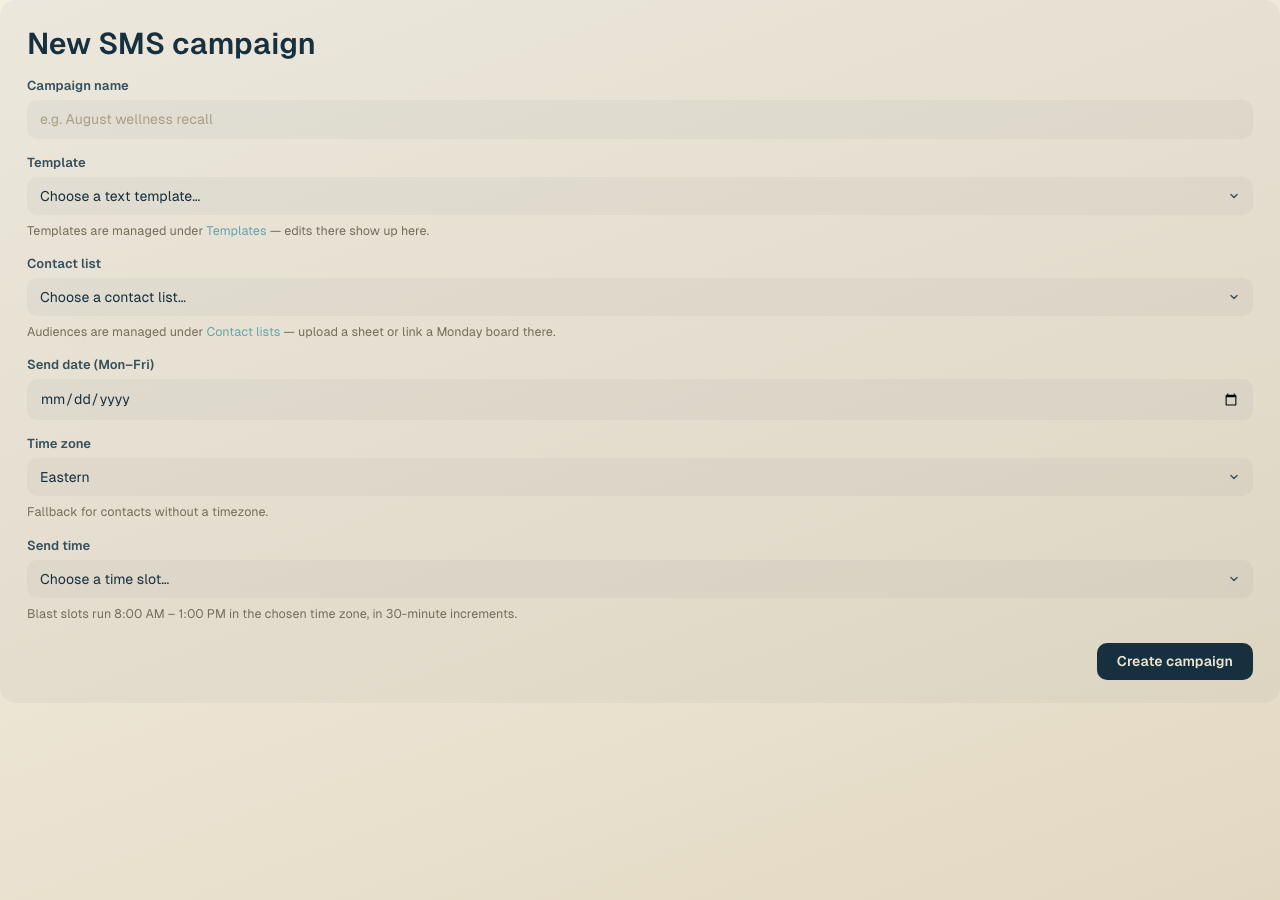
NewCampaignForm › flags a template whose body has unsupported merge fields
Select "Broken merge" in the dropdown labelled "Template" at (640, 196), box [27,176,1253,214]
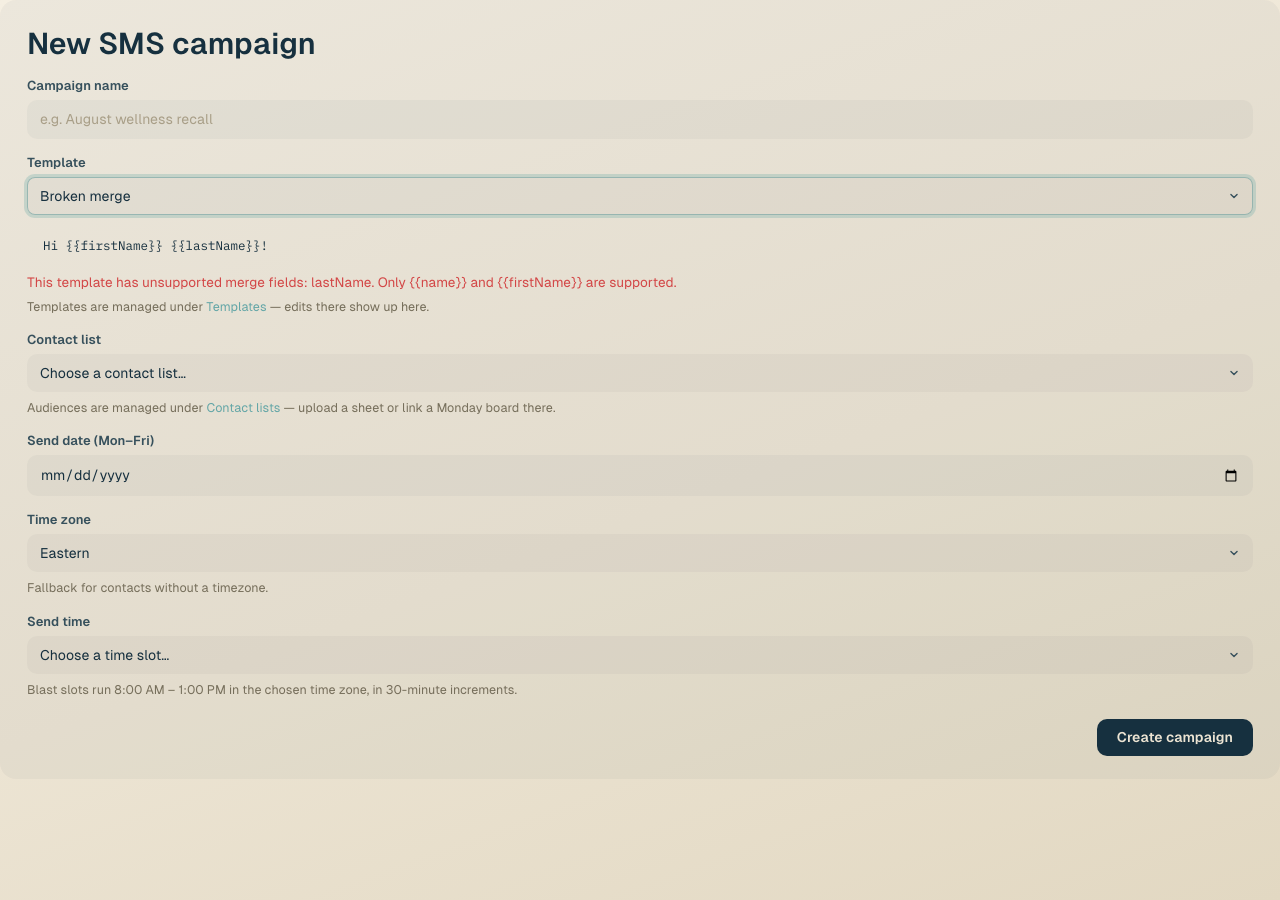
Check: the message shows "unsupported merge field", box [27,274,308,290]
Check: the message shows "lastName", box [311,274,372,290]
